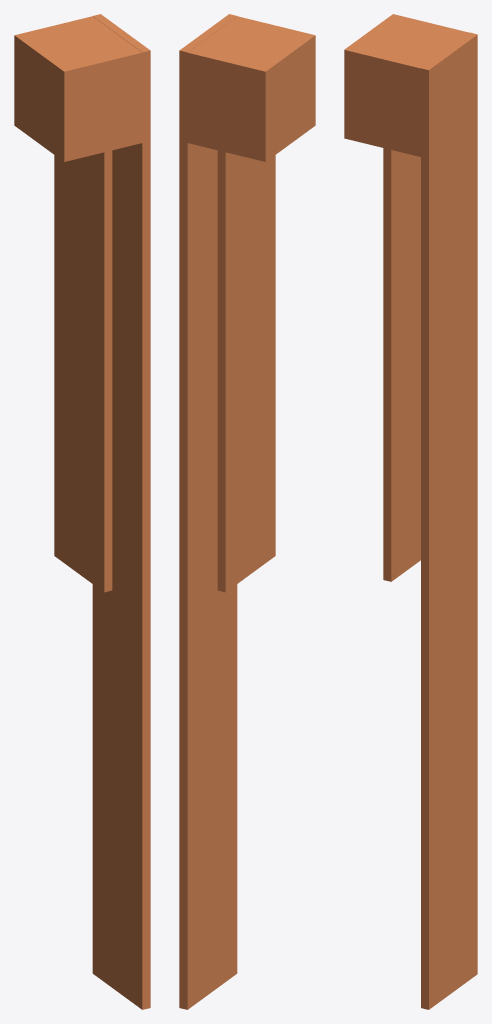
The picture shows the model from 3 angles, left to right: view 1: azimuth 30°, elevation 25°; view 2: azimuth 150°, elevation 25°; view 3: azimuth 330°, elevation 25°; orthographic projection.
Parts seen in each view (by area): view 1: tmp_export_Cube.005; view 2: tmp_export_Cube.005; view 3: tmp_export_Cube.005.
Part boxes in pixels (<box>): tmp_export_Cube.005: <box>14,14,150,1009</box>; tmp_export_Cube.005: <box>179,14,315,1009</box>; tmp_export_Cube.005: <box>344,14,477,1009</box>.
Size of the model in its own units: 2 by 2 by 21.2.
